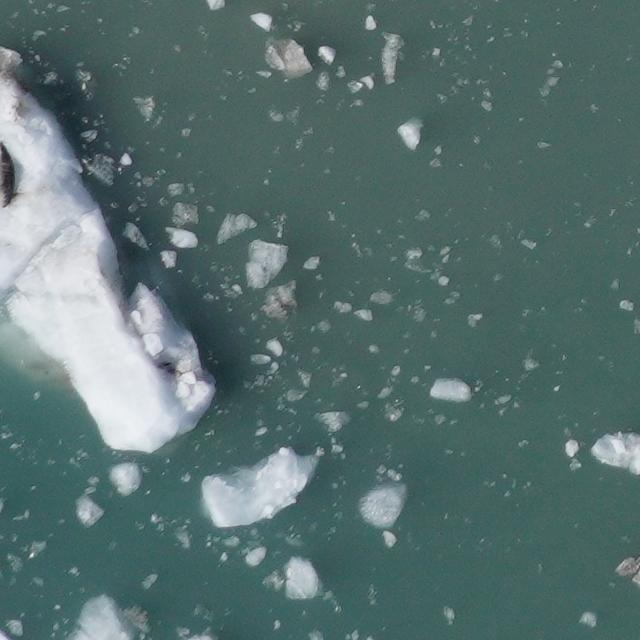seal: (0, 129, 22, 213)
